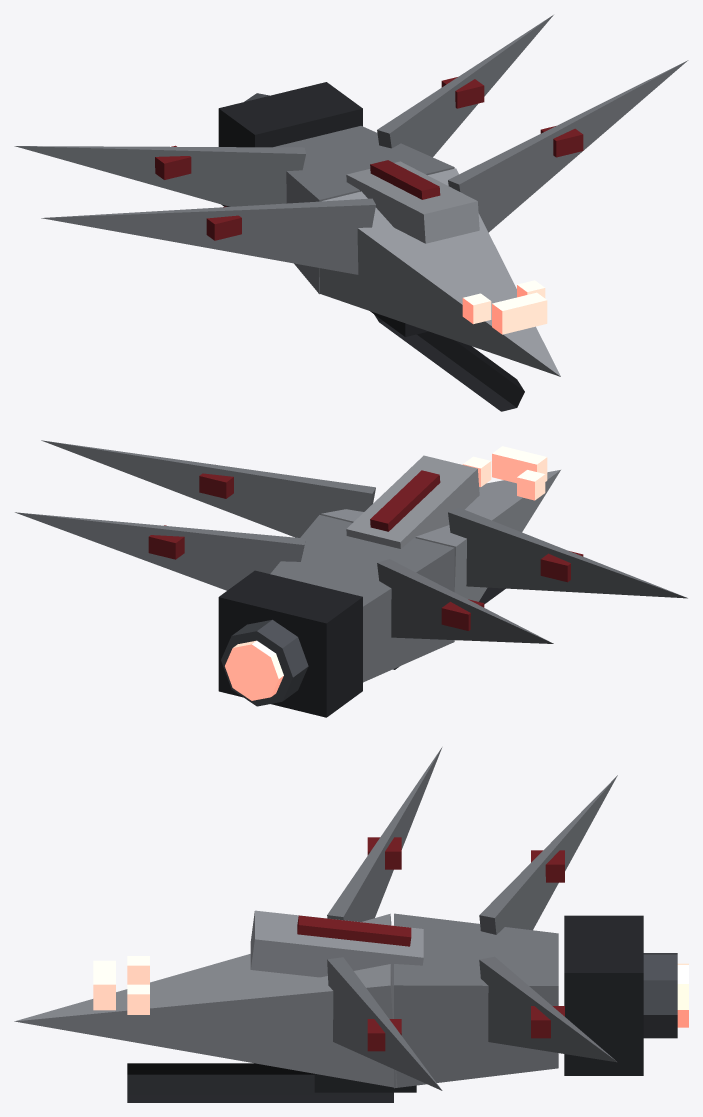
File: wasp.glb
3 views of the same model, one above another, from view 1: azimuth 30°, elevation 25°; view 2: azimuth 150°, elevation 25°; view 3: azimuth 270°, elevation 25° (orthographic). The views are drawn at different scales.
Visible parts, largest first — view 1: WaspHull, WaspGlow; view 2: WaspHull, WaspGlow; view 3: WaspHull, WaspGlow.
Part boxes in pixels (bbox=[...]): WaspHull: bbox=[14, 15, 688, 411]; WaspGlow: bbox=[462, 280, 547, 334]; WaspHull: bbox=[15, 440, 687, 717]; WaspGlow: bbox=[225, 446, 547, 700]; WaspHull: bbox=[14, 747, 677, 1102]; WaspGlow: bbox=[93, 956, 688, 1027].
Size of the model in its own units: 1.44 by 0.3503 by 1.19.
